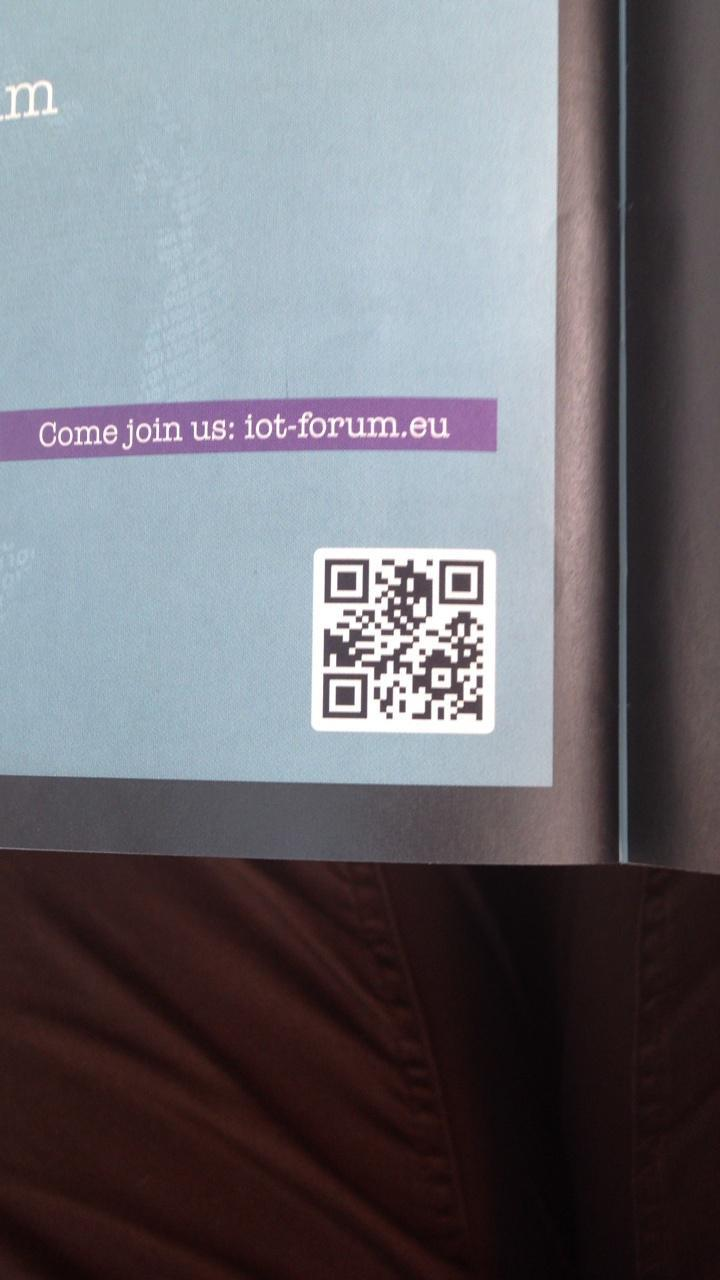Finder pattern: (315, 665, 372, 726), (317, 552, 374, 608), (432, 555, 491, 609)
